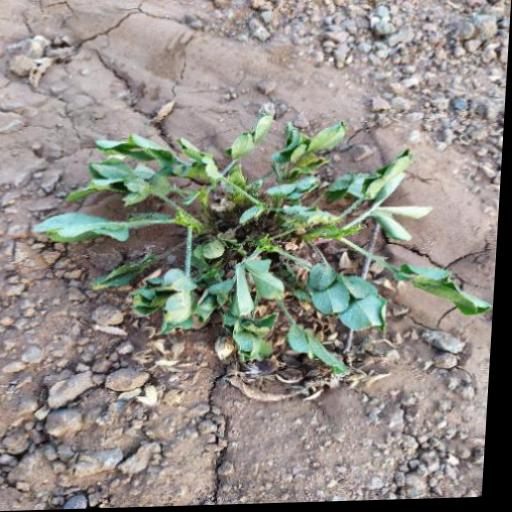weed: (17, 92, 497, 398)
